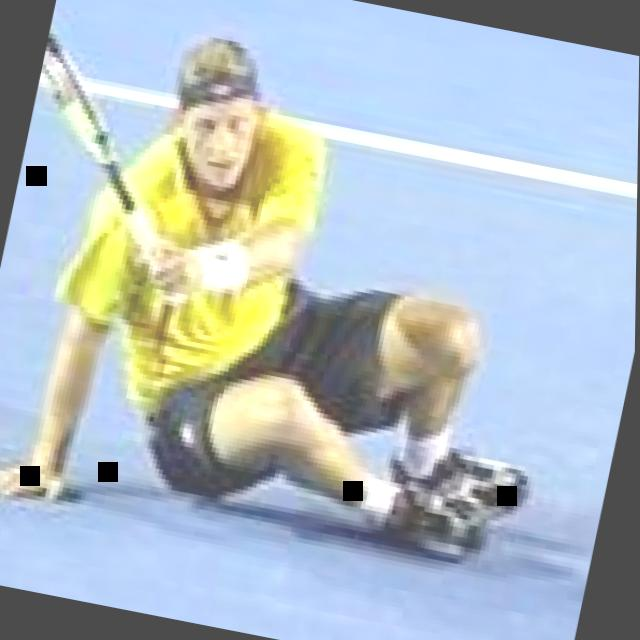Fall-Detected: (0, 0, 617, 588)
